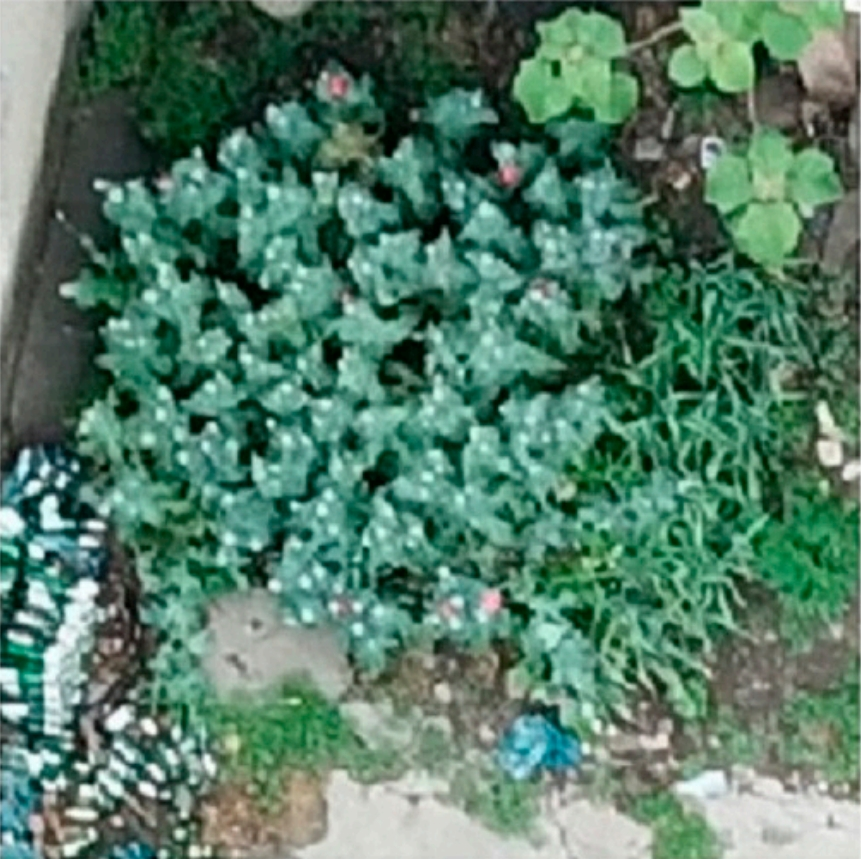Poppy: (79, 68, 658, 734)
